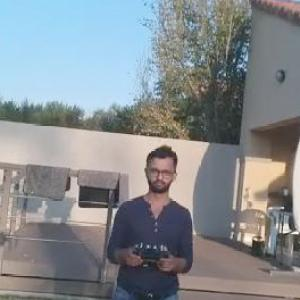follow: (103, 135, 202, 299)
